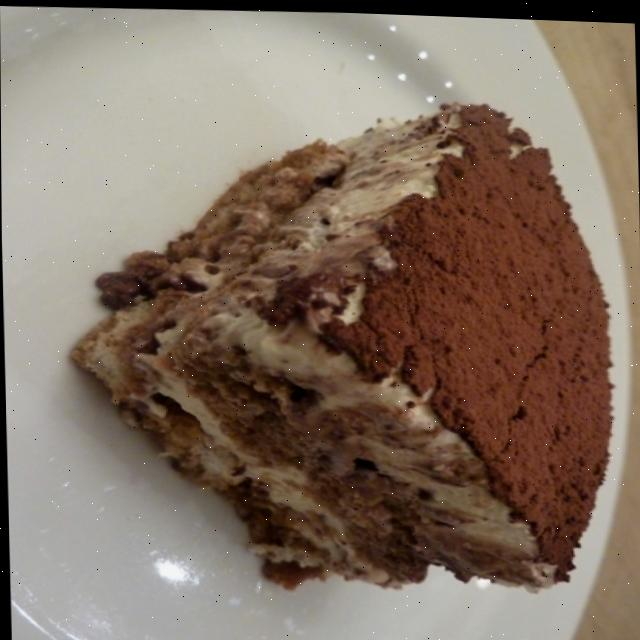蛋糕甜品: (1, 6, 635, 640)
